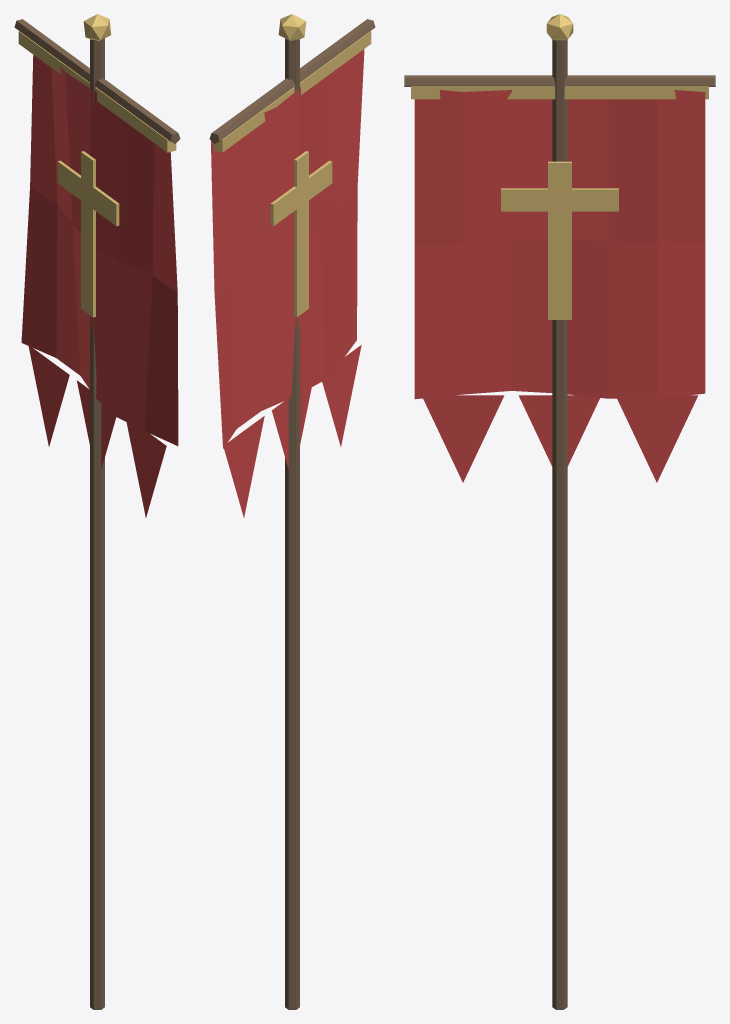
Rendered from procession_banner.glb.
The picture shows the model from 3 angles, left to right: view 1: azimuth 30°, elevation 25°; view 2: azimuth 150°, elevation 25°; view 3: azimuth 270°, elevation 25°; orthographic projection.
Visible parts, largest first — view 1: procession_banner; view 2: procession_banner; view 3: procession_banner.
Boxes of the visible parts, box(x1,y1,x2,y2) form: procession_banner: box(14, 14, 180, 1009); procession_banner: box(209, 14, 375, 1009); procession_banner: box(404, 14, 715, 1009).
Bounding box in the file's own units: 0.1052 × 3.16 × 0.9.
